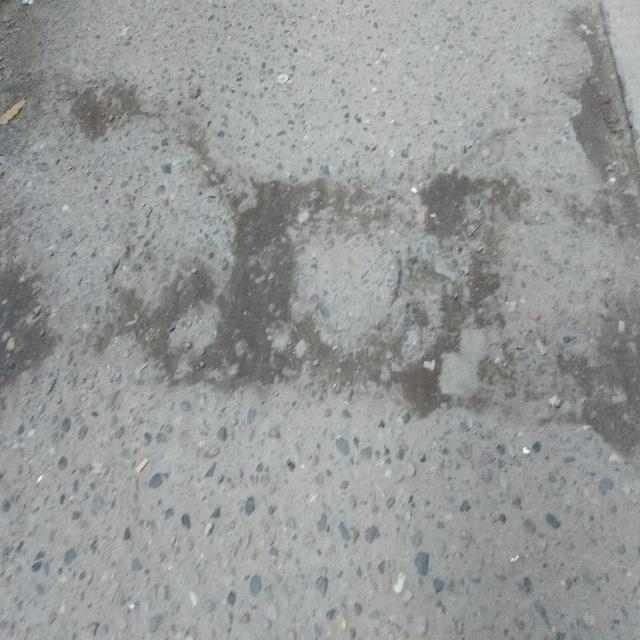Surface Erosion: (140, 114, 640, 504)
